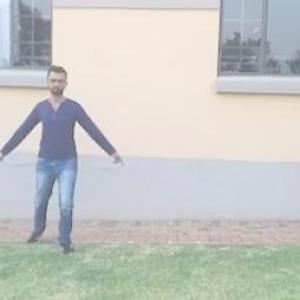land: (1, 68, 112, 241)
